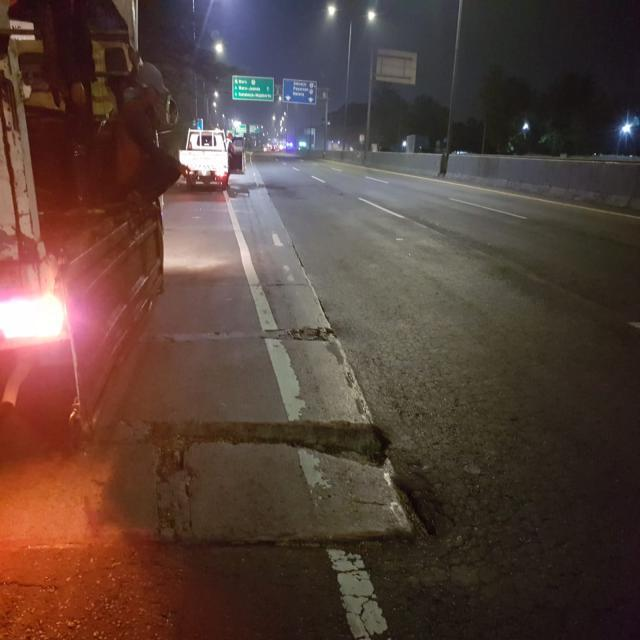Buraco: (132, 416, 396, 486), (387, 469, 459, 544), (282, 324, 338, 344)
